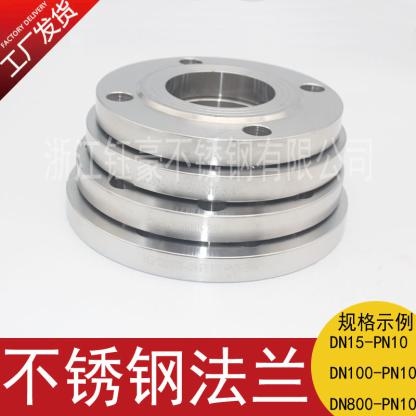FOD: (86, 52, 348, 168)
